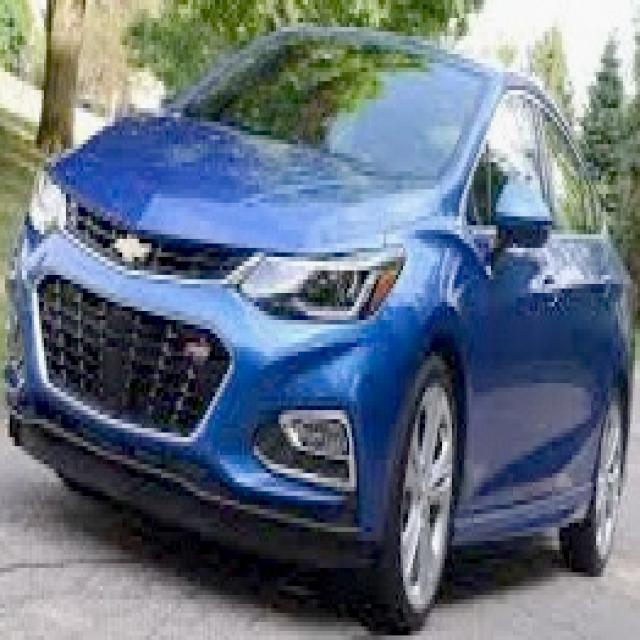blue: (9, 23, 640, 626)
